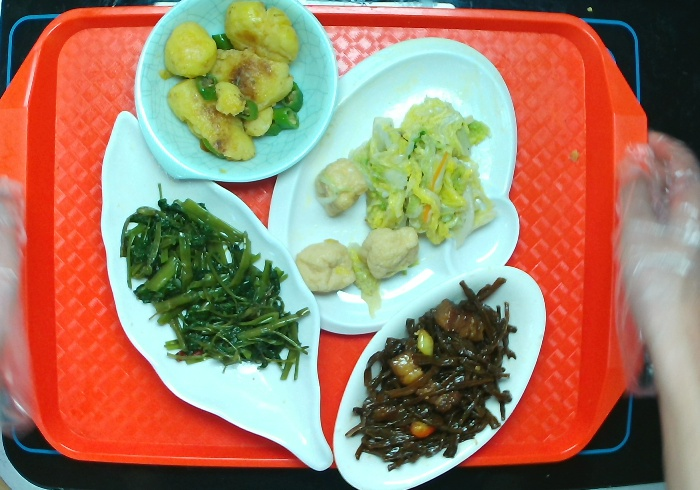RJxy-Bai_Se_Tuo_Yuan: (330, 262, 550, 490)
RJxy-Shu_Ye_Pan: (96, 107, 345, 477)
RJxy-Xiao_Jiao_Yuan_Wan: (126, 1, 342, 188)
RJxy-Zhan_Liao_Pan: (265, 34, 524, 341)
